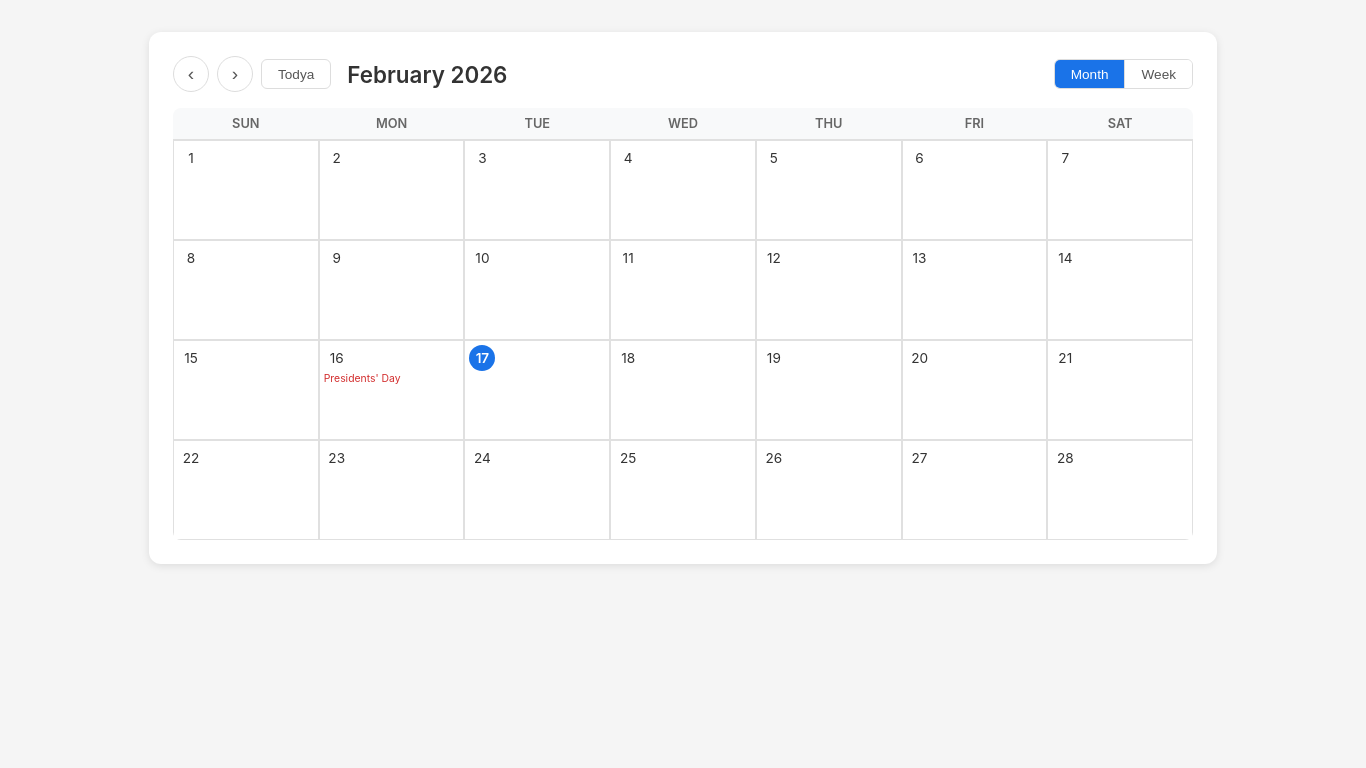
Test: Calendar App › creates a new event
The image size is (1366, 768).
// Open modal
Click the element with class "month-day-cell" showing "11" at (683,290), box [610, 240, 756, 340]
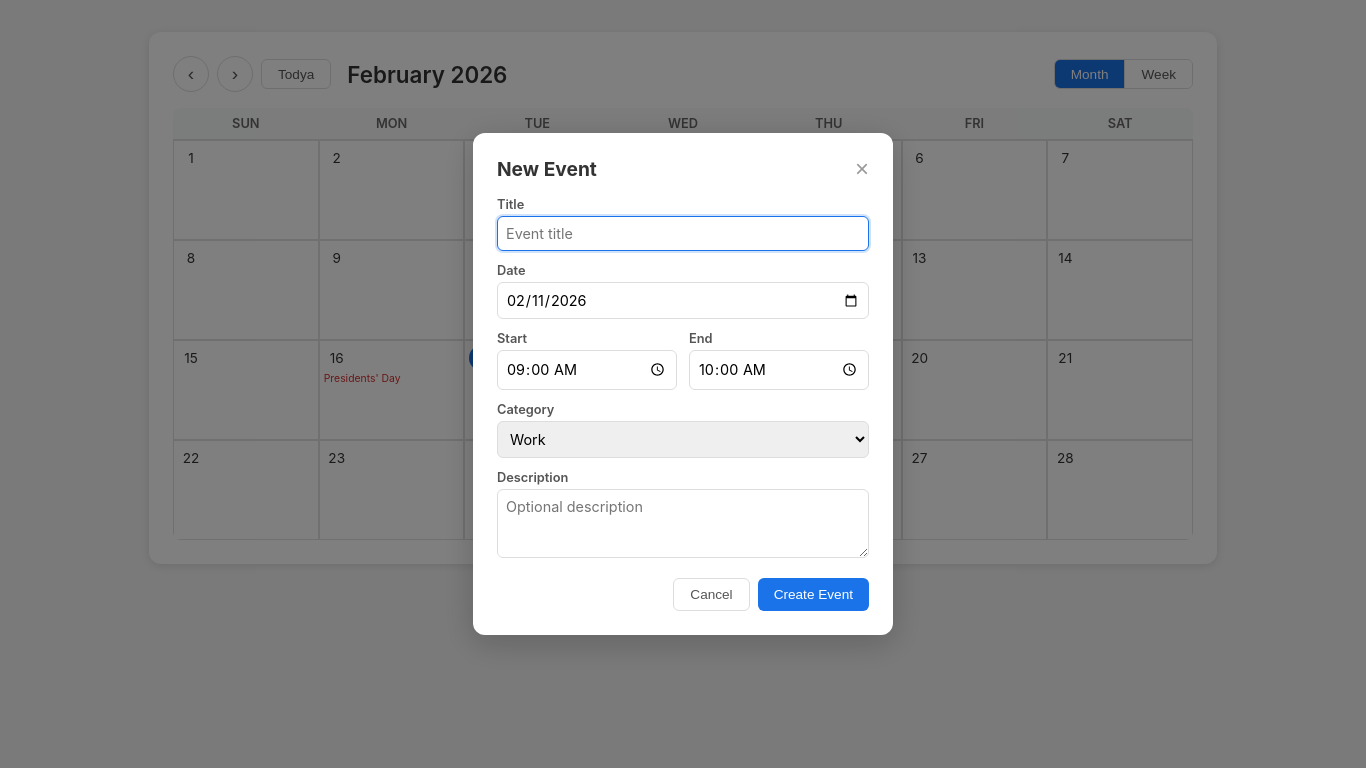
// Fill in the form
Type "Test Meeting" into the field labelled "Title" at (683,234), box [497, 216, 869, 251]
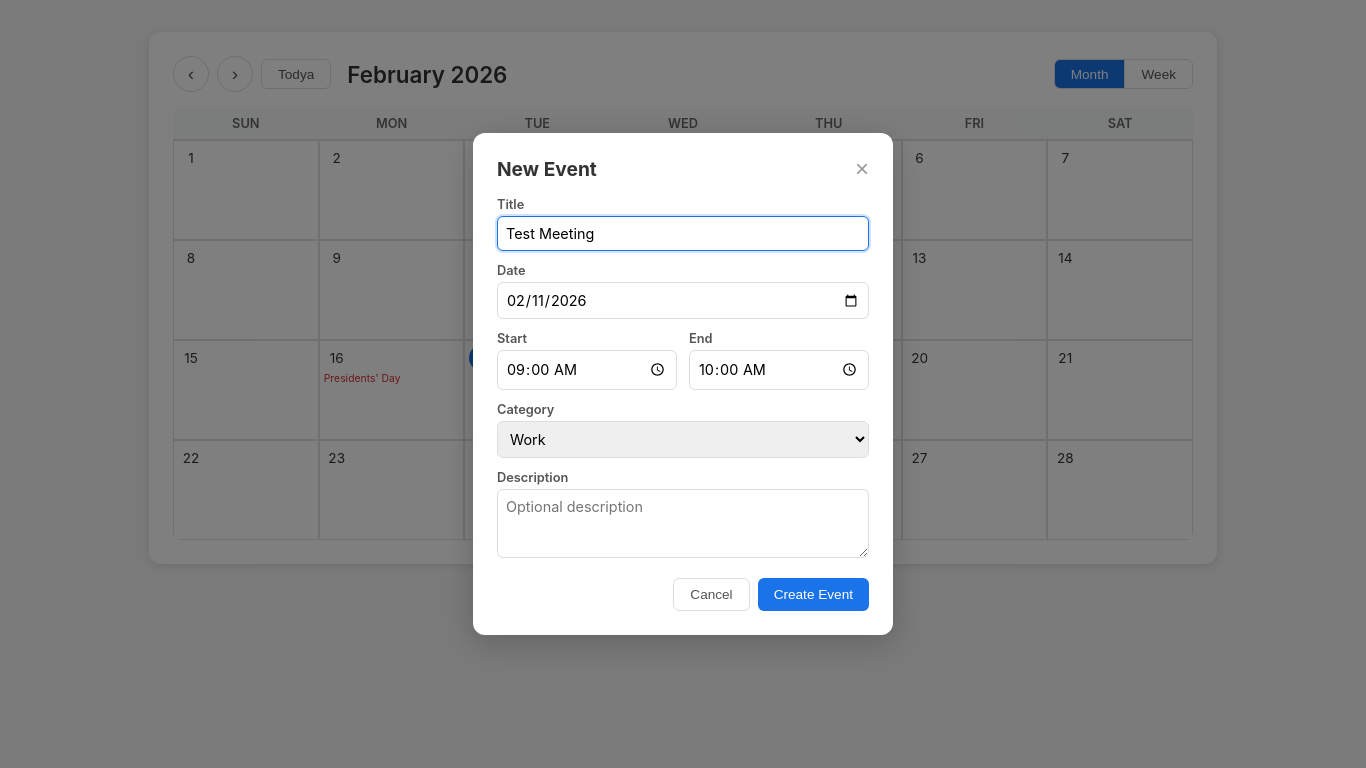
Click the button "Create Event" at (813,594), box [758, 578, 869, 610]
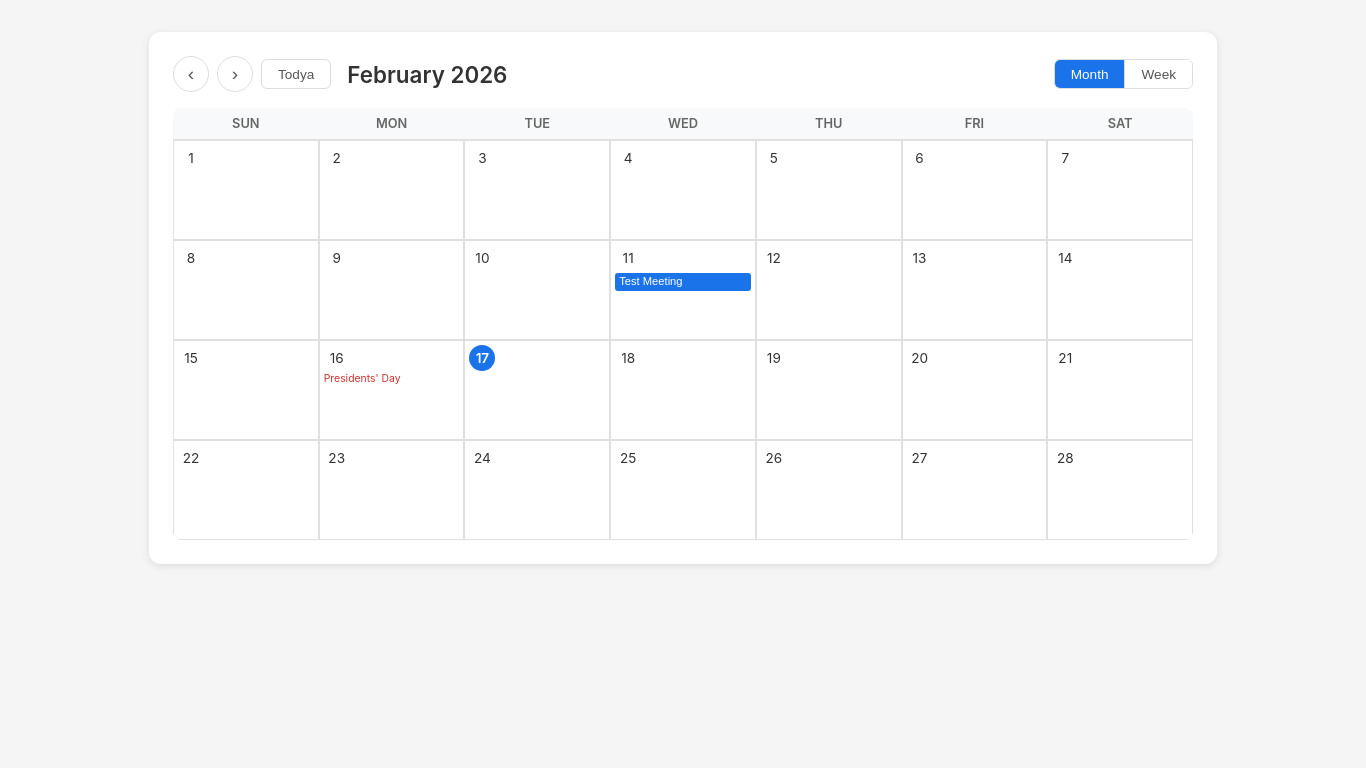
Check: the button "Test Meeting" is shown, box [615, 273, 751, 291]
